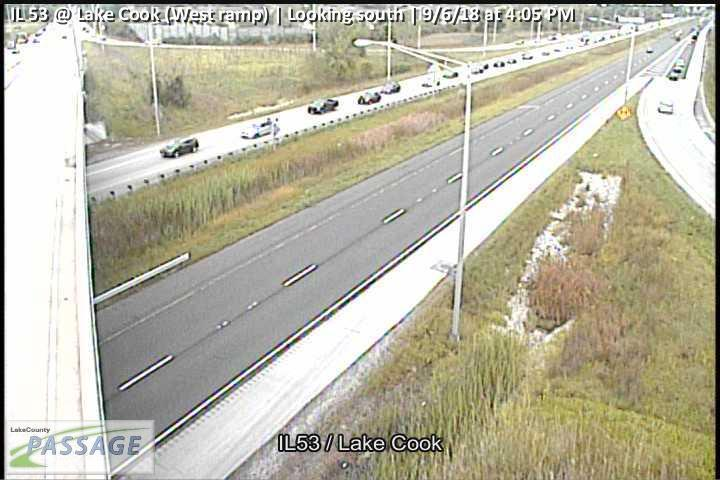SUV: (160, 137, 199, 159), (240, 121, 280, 139), (307, 99, 339, 115), (658, 98, 674, 114)
Sedan: (358, 92, 382, 105)
